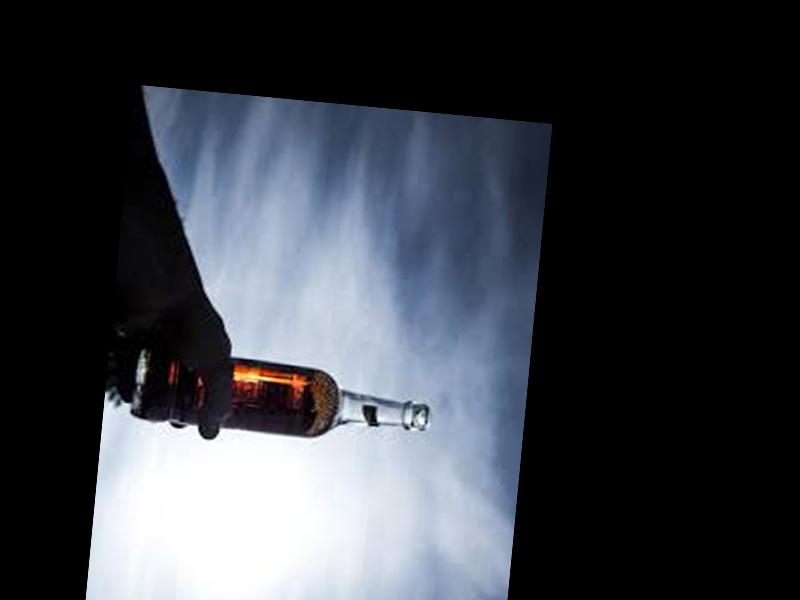Beer: (134, 348, 433, 445)
